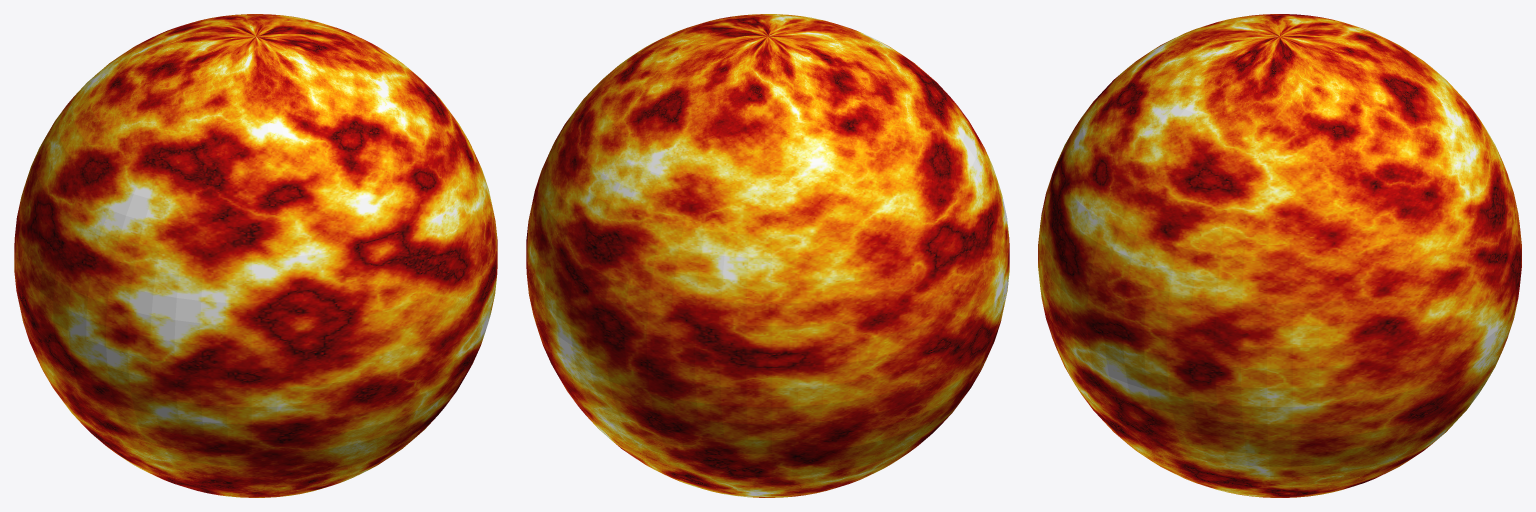
Rendered from sun.obj.
The picture shows the model from 3 angles, left to right: view 1: azimuth 30°, elevation 25°; view 2: azimuth 150°, elevation 25°; view 3: azimuth 270°, elevation 25°; orthographic projection.
Parts seen in each view (by area): view 1: Sphere; view 2: Sphere; view 3: Sphere.
Boxes of the visible parts, x1,y1,x2,y2 form: Sphere: (14,14,497,497); Sphere: (526,14,1009,497); Sphere: (1038,14,1521,497).
Size of the model in its own units: 1.99 by 2 by 2.
